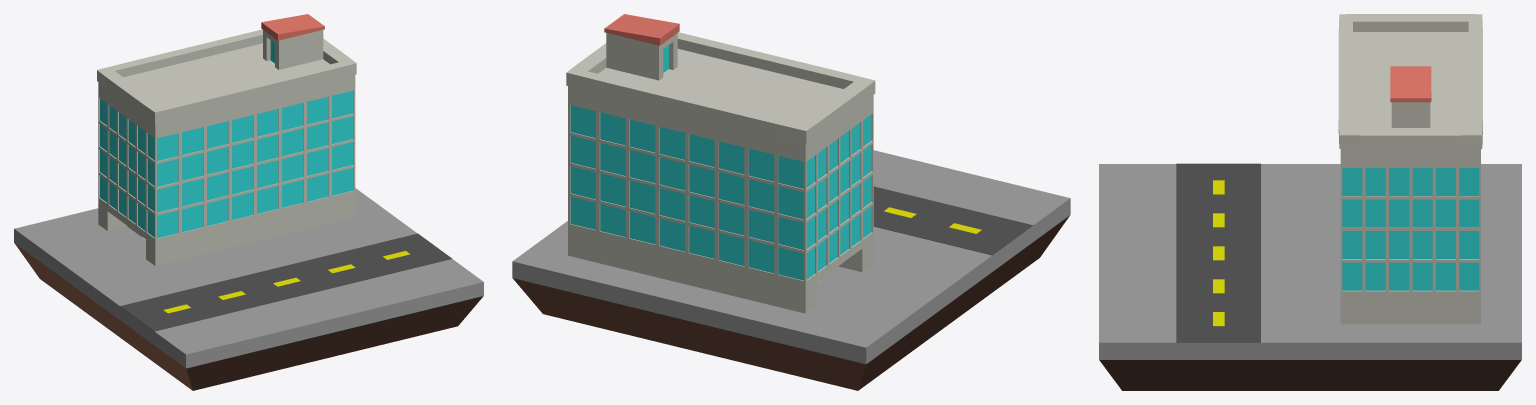
File: building.fbx
3 views of the same model, side by side, from view 1: azimuth 30°, elevation 25°; view 2: azimuth 150°, elevation 25°; view 3: azimuth 270°, elevation 25° (orthographic). The views are drawn at different scales.
Parts seen in each view (by area): view 1: Building.001, Plane.003, Building, Plane, Plane.002, Building.002, Road.001; view 2: Building.001, Plane.003, Building, Plane, Plane.002, Building.002; view 3: Plane.003, Building.001, Plane.002, Building, Plane, Building.002, Road.001.
Part boxes in pixels (left/top/right/bottom): Building.001: left=97, top=29, right=356, bottom=265; Plane.003: left=14, top=188, right=483, bottom=368; Building: left=100, top=40, right=353, bottom=238; Plane: left=14, top=243, right=483, bottom=390; Plane.002: left=120, top=233, right=452, bottom=331; Building.002: left=261, top=14, right=324, bottom=40; Road.001: left=163, top=251, right=409, bottom=313; Building.001: left=566, top=32, right=875, bottom=313; Plane.003: left=512, top=150, right=1070, bottom=364; Building: left=570, top=45, right=871, bottom=280; Plane: left=512, top=215, right=1069, bottom=390; Plane.002: left=873, top=186, right=1032, bottom=255; Building.002: left=604, top=14, right=679, bottom=45; Plane.003: left=1099, top=164, right=1521, bottom=359; Building.001: left=1338, top=14, right=1482, bottom=324; Plane.002: left=1176, top=163, right=1260, bottom=342; Building: left=1342, top=168, right=1479, bottom=290; Plane: left=1099, top=360, right=1521, bottom=390; Building.002: left=1390, top=66, right=1431, bottom=102; Road.001: left=1213, top=180, right=1224, bottom=326.
Size of the model in its own units: 1000 by 736 by 1000.
